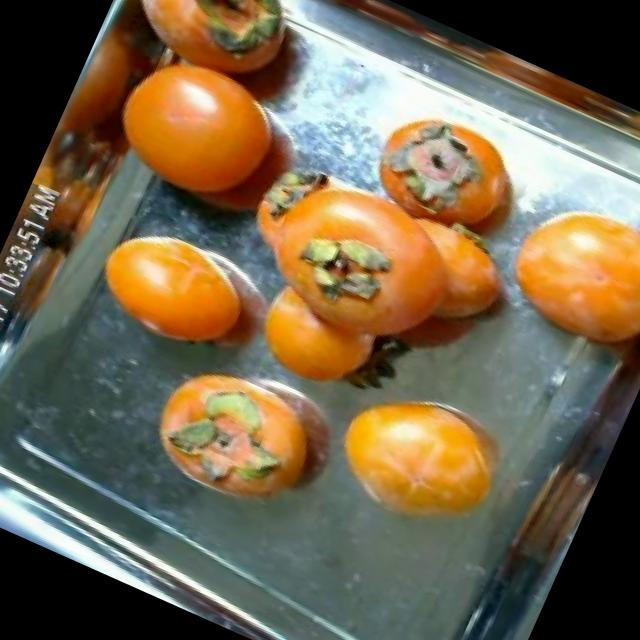Fruit: (302, 356, 540, 567), (66, 196, 280, 384), (222, 226, 426, 420), (467, 163, 640, 387), (124, 349, 303, 518)
